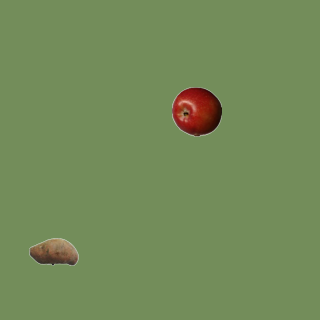Apple Braeburn: (171, 86, 221, 136)
Potato Sweet: (28, 226, 78, 276)
